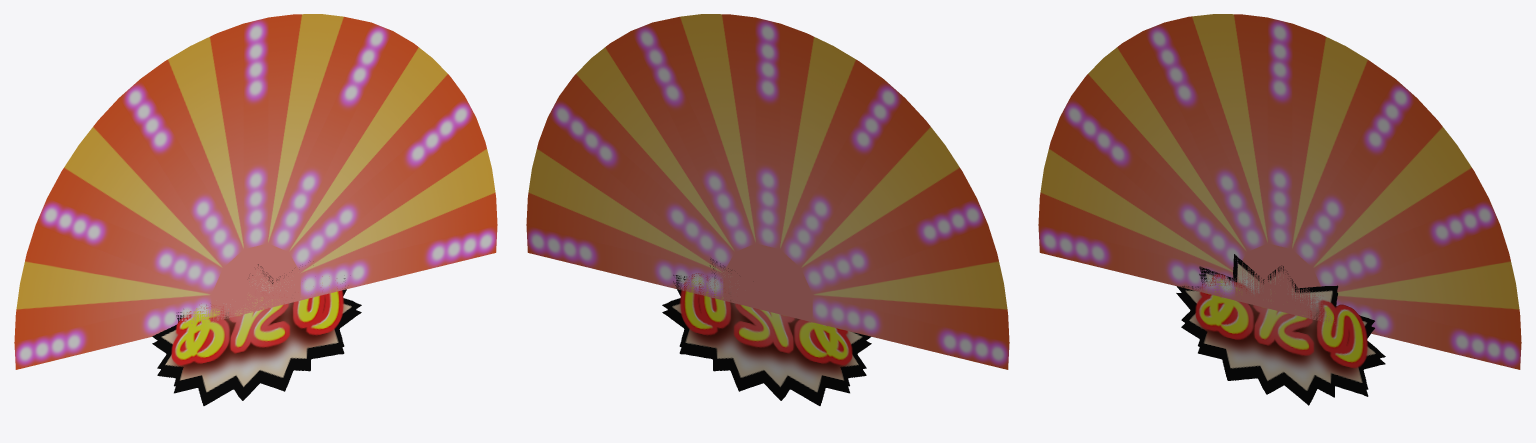
File: atari01.fbx
The picture shows the model from 3 angles, left to right: view 1: azimuth 30°, elevation 25°; view 2: azimuth 150°, elevation 25°; view 3: azimuth 330°, elevation 25°; orthographic projection.
Parts seen in each view (by area): view 1: atari_background, atari_billboard; view 2: atari_background, atari_billboard; view 3: atari_background, atari_billboard.
Part boxes in pixels (box(x1,y1,x2,y2)): atari_background: box(14, 14, 497, 369); atari_billboard: box(152, 264, 361, 405); atari_background: box(526, 14, 1009, 369); atari_billboard: box(662, 258, 871, 405); atari_background: box(1038, 14, 1521, 369); atari_billboard: box(1176, 254, 1385, 405).
Bounding box in the file's own units: 18.74 × 14.15 × 2.07e-09.
